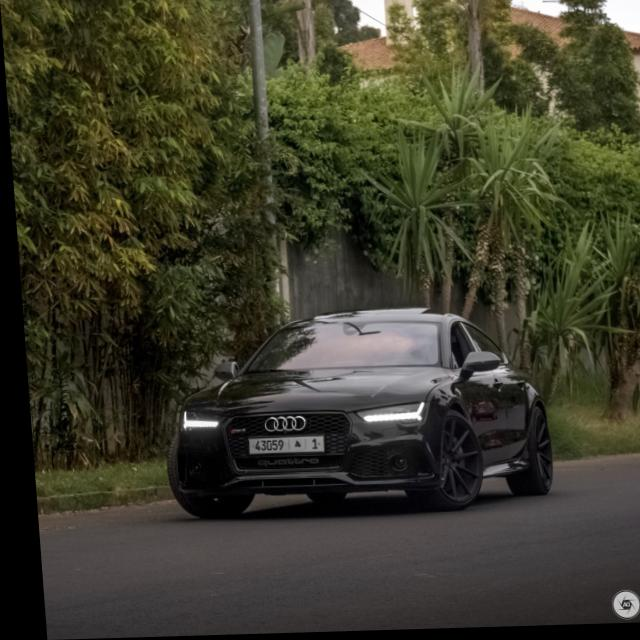License-Plate: (242, 437, 317, 456)
